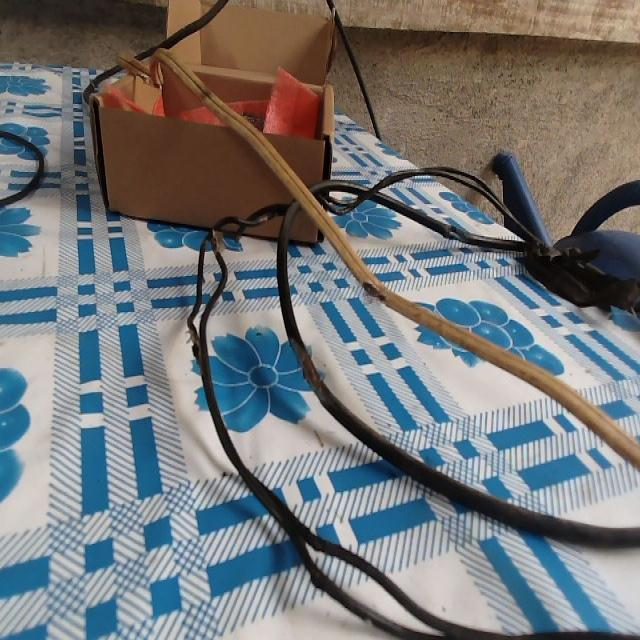-: (289, 340, 319, 400), (187, 324, 207, 380), (358, 280, 386, 303)
